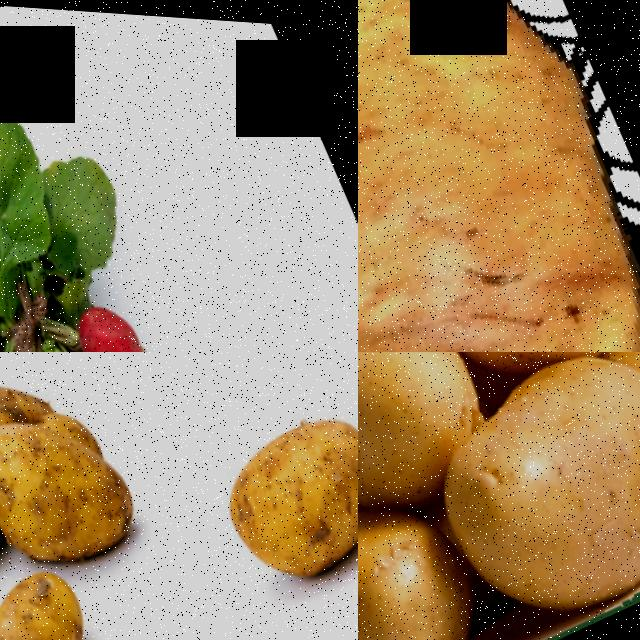potato: (358, 0, 640, 352), (423, 352, 640, 640), (198, 378, 358, 600), (0, 377, 165, 582), (358, 352, 523, 526), (358, 468, 522, 640), (0, 551, 127, 640)
radishes: (0, 189, 213, 352)
